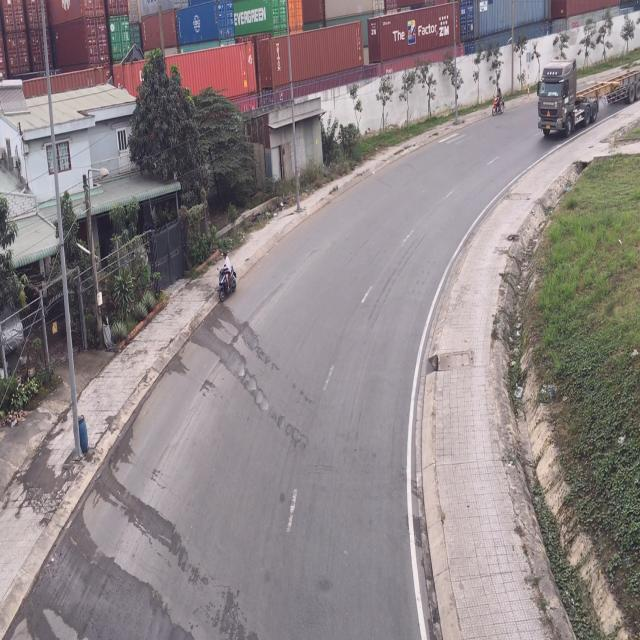motorbike: (217, 256, 237, 304), (493, 81, 506, 118)
truck: (537, 58, 640, 140)
